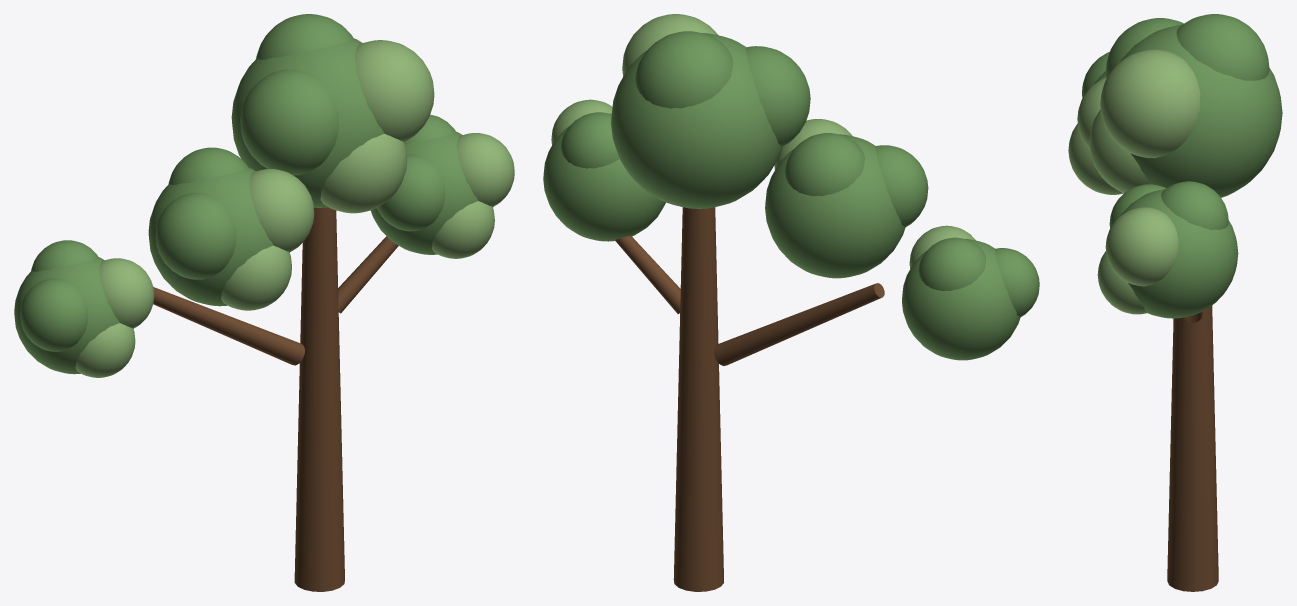
The model's file is tree_outside.glb.
3 renders of one model, left to right at view 1: azimuth 30°, elevation 25°; view 2: azimuth 150°, elevation 25°; view 3: azimuth 270°, elevation 25°, orthographic.
Parts seen in each view (by area): view 1: tree_outside_trunk, tree_outside_leaves.002, tree_outside_leaves, tree_outside_leaves.001, tree_outside_leaves.005, tree_outside_leaves.007, tree_outside_leaves.003, tree_outside_leaves.015, tree_outside_leaves.017, tree_outside_leaves.006, tree_outside_leaves.010, tree_outside_leaves.012 (+11 smaller); view 2: tree_outside_leaves, tree_outside_trunk, tree_outside_leaves.005, tree_outside_leaves.015, tree_outside_leaves.010, tree_outside_leaves.004, tree_outside_leaves.002, tree_outside_leaves.009, tree_outside_branch, tree_outside_leaves.019, tree_outside_leaves.007, tree_outside_leaves.014 (+6 smaller); view 3: tree_outside_trunk, tree_outside_leaves, tree_outside_leaves.001, tree_outside_leaves.010, tree_outside_leaves.011, tree_outside_leaves.004, tree_outside_leaves.003, tree_outside_leaves.014, tree_outside_leaves.013, tree_outside_leaves.008, tree_outside_leaves.002, tree_outside_leaves.006 (+2 smaller).
Part boxes in pixels (x1,y1,x2,y2): tree_outside_trunk: (294, 207, 344, 591); tree_outside_leaves.002: (240, 69, 338, 175); tree_outside_leaves: (231, 38, 404, 207); tree_outside_leaves.001: (355, 40, 434, 142); tree_outside_leaves.005: (148, 167, 289, 306); tree_outside_leaves.007: (155, 193, 236, 279); tree_outside_leaves.003: (320, 134, 406, 213); tree_outside_leaves.015: (14, 257, 119, 374); tree_outside_leaves.017: (20, 278, 88, 351); tree_outside_leaves.006: (249, 169, 314, 252); tree_outside_leaves.010: (370, 131, 478, 254); tree_outside_leaves.012: (377, 154, 445, 231); tree_outside_leaves: (611, 33, 782, 208); tree_outside_trunk: (673, 207, 723, 591); tree_outside_leaves.005: (765, 134, 905, 278); tree_outside_leaves.015: (902, 239, 1020, 360); tree_outside_leaves.010: (543, 113, 665, 241); tree_outside_leaves.004: (635, 31, 733, 108); tree_outside_leaves.002: (746, 46, 810, 146); tree_outside_leaves.009: (785, 133, 864, 196); tree_outside_branch: (714, 283, 884, 365); tree_outside_leaves.019: (918, 237, 986, 290); tree_outside_leaves.007: (875, 145, 928, 227); tree_outside_leaves.014: (561, 112, 619, 168); tree_outside_trunk: (1167, 305, 1218, 591); tree_outside_leaves: (1120, 24, 1282, 197); tree_outside_leaves.001: (1100, 49, 1200, 158); tree_outside_leaves.010: (1120, 189, 1238, 318); tree_outside_leaves.011: (1105, 207, 1178, 286); tree_outside_leaves.004: (1176, 14, 1269, 80); tree_outside_leaves.003: (1089, 110, 1149, 192); tree_outside_leaves.014: (1161, 181, 1228, 229); tree_outside_leaves.013: (1097, 251, 1147, 314); tree_outside_leaves.008: (1068, 123, 1123, 194); tree_outside_leaves.002: (1105, 18, 1183, 78); tree_outside_leaves.006: (1077, 77, 1106, 149).
Size of the model in its own units: 2.84 by 3.12 by 1.08.
